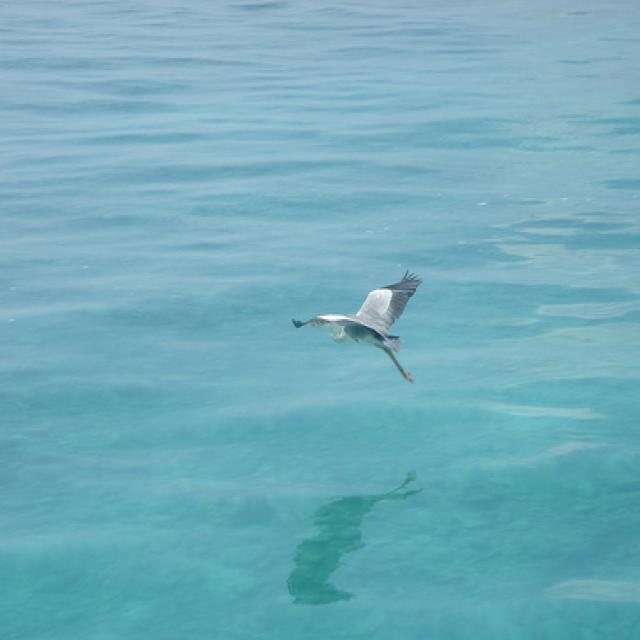bird: (288, 271, 427, 387)
